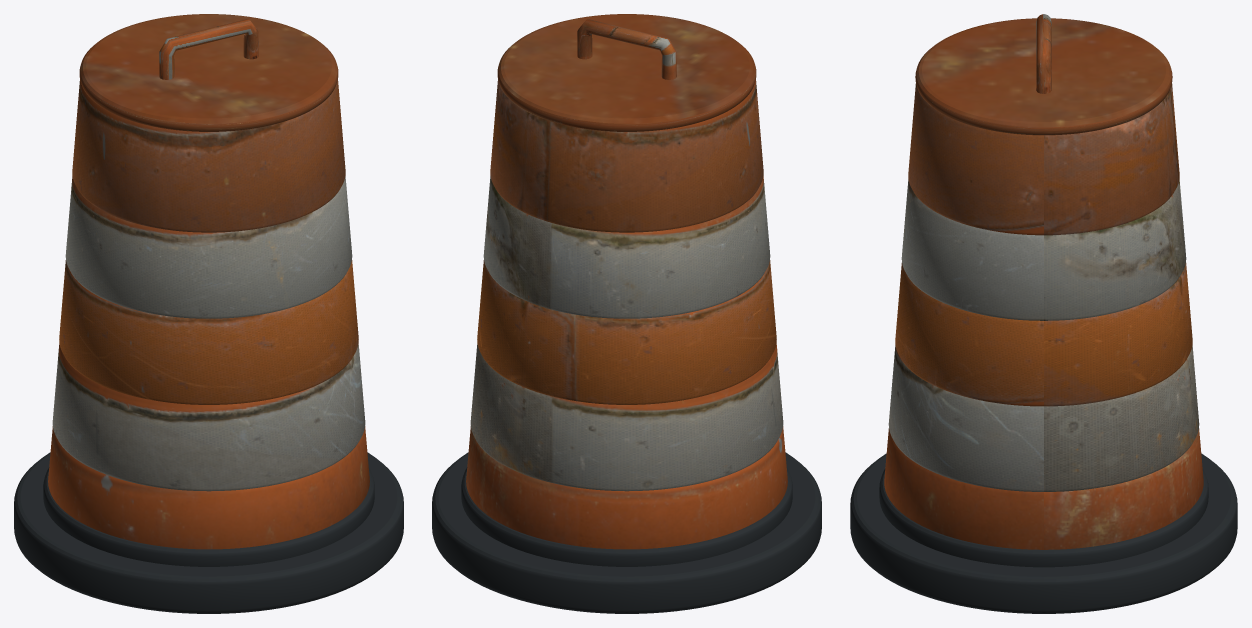
File: constuctionbarrel.glb
3 renders of one model, left to right at view 1: azimuth 30°, elevation 25°; view 2: azimuth 150°, elevation 25°; view 3: azimuth 270°, elevation 25°, orthographic.
Parts seen in each view (by area): view 1: ConstructionBarrel; view 2: ConstructionBarrel; view 3: ConstructionBarrel.
Boxes of the visible parts, x1,y1,x2,y2 form: ConstructionBarrel: (14, 14, 403, 613); ConstructionBarrel: (432, 14, 821, 613); ConstructionBarrel: (850, 14, 1237, 613).
Size of the model in its own units: 0.72 by 1.03 by 0.72.
3 materials, 2 textured.
